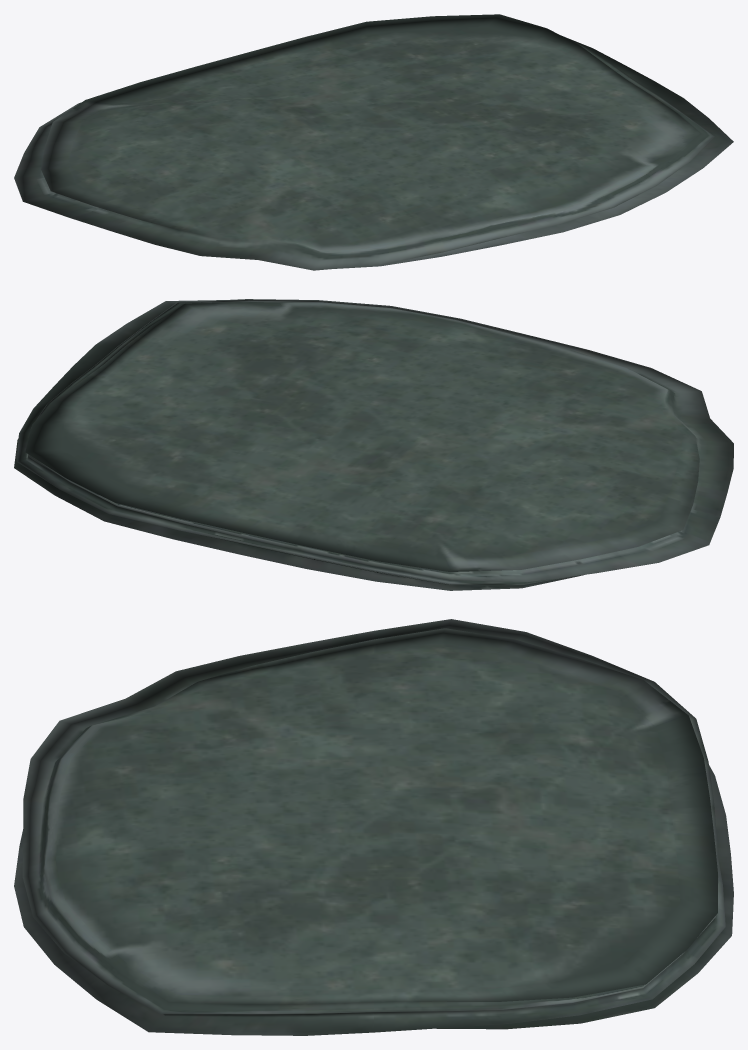
Rendered from thin_shale_04.glb.
The picture shows the model from 3 angles, top to bottom: view 1: azimuth 30°, elevation 25°; view 2: azimuth 150°, elevation 25°; view 3: azimuth 270°, elevation 25°; orthographic projection. The views are drawn at different scales.
Parts seen in each view (by area): view 1: thin_shale_04; view 2: thin_shale_04; view 3: thin_shale_04.
Boxes of the visible parts, left/top/right/bottom form: thin_shale_04: left=14, top=14, right=733, bottom=270; thin_shale_04: left=14, top=299, right=733, bottom=590; thin_shale_04: left=14, top=619, right=733, bottom=1035.
Size of the model in its own units: 0.0879 by 0.00489 by 0.0654.
1 material, 1 textured.
